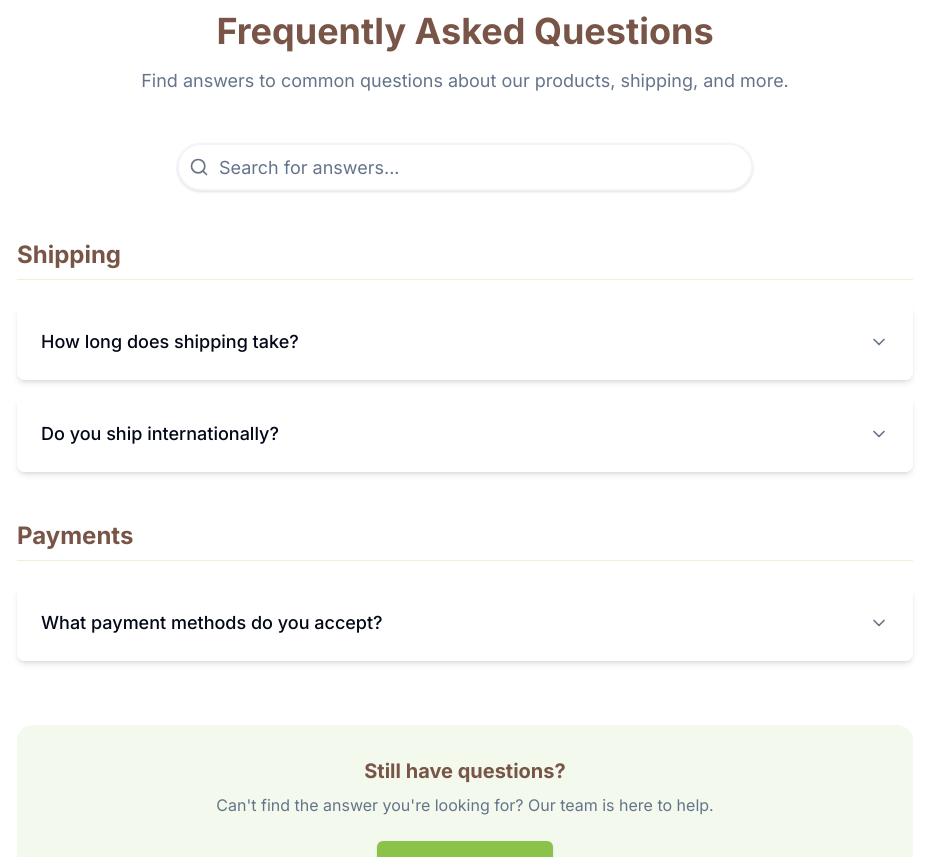
Test: FAQClient › shows answer when accordion is clicked
Click the heading "How long does shipping take?" at (186, 342), box [41,328,331,356]
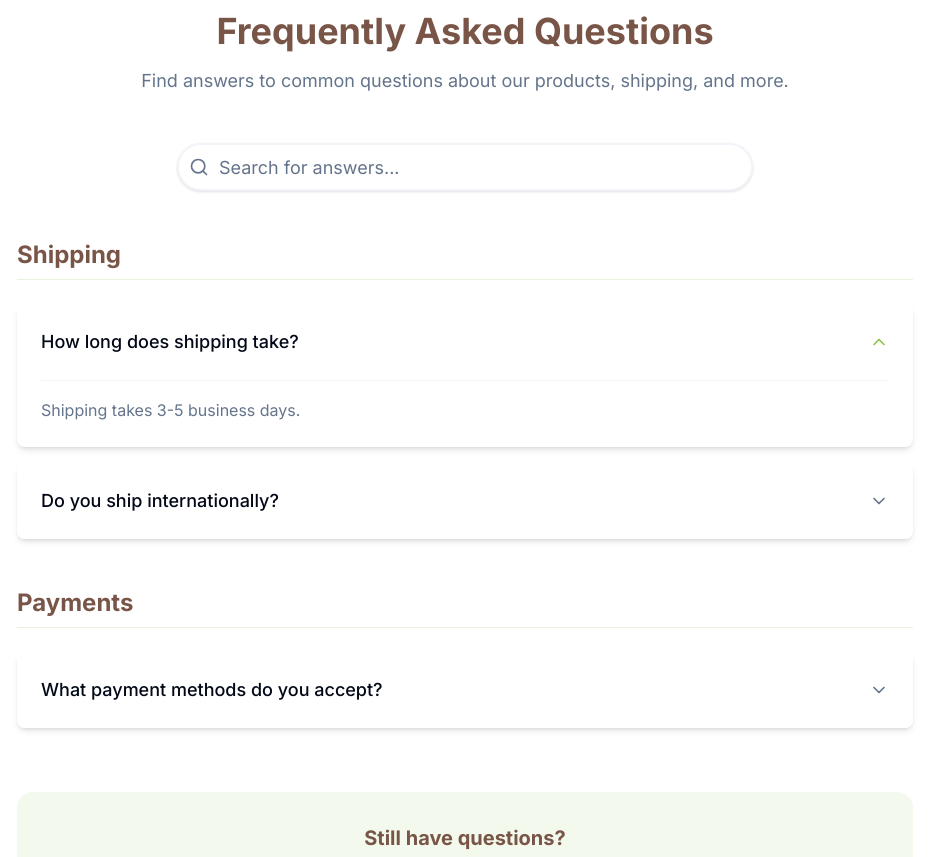
Check: the text "Shipping takes 3-5 business days." is shown, box [41,380,889,423]
